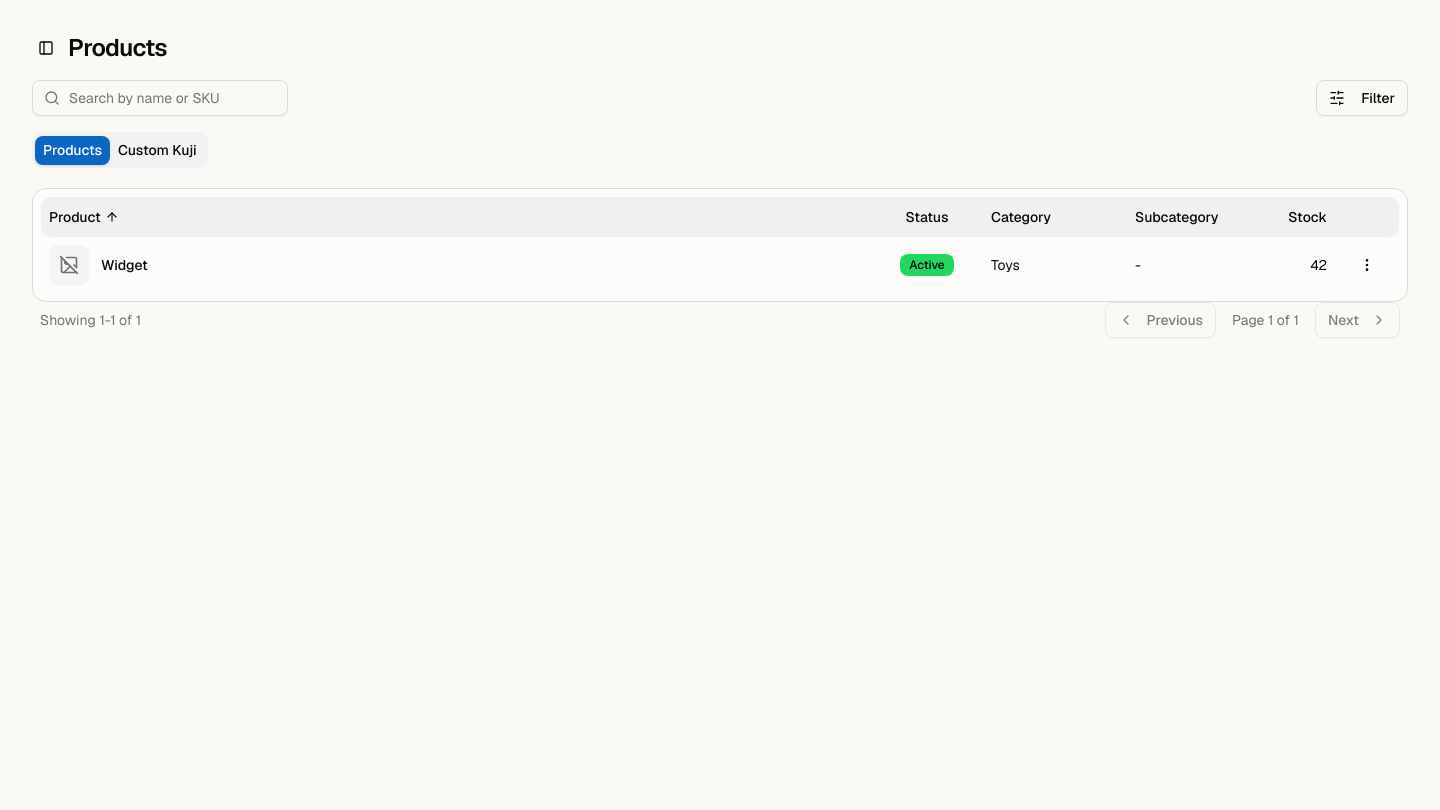
ProductsPage (site-scoped, phase-5d T-5) › opens the detail modal with scoped inventory and role-appropriate actions (EMPLOYEE: no Edit)
Click the text "Widget" at (124, 265), box x1=101 y1=255 x2=148 y2=275
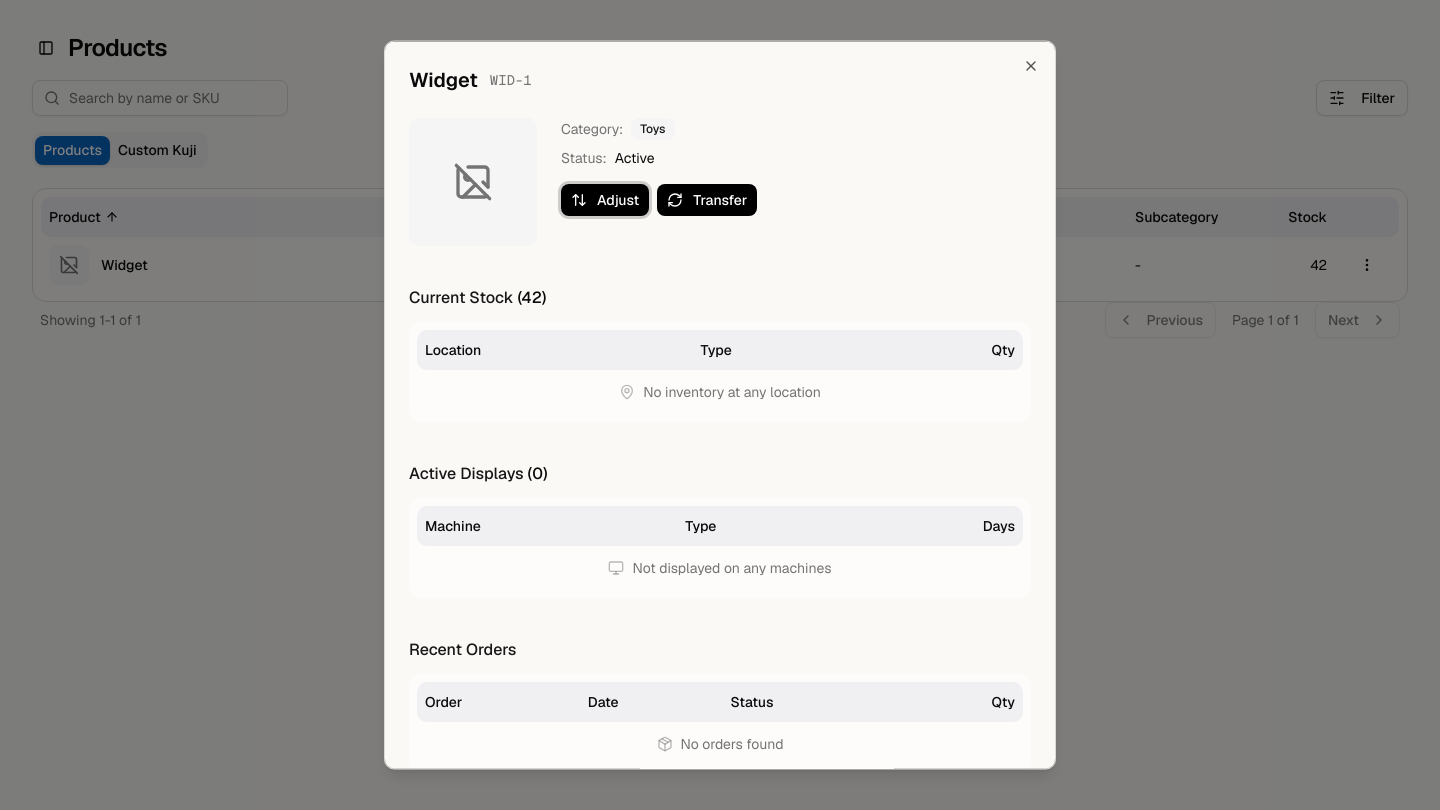
Expected: the heading "Current Stock (42)" is shown, x1=409 y1=286 x2=546 y2=308
Expected: the text "(42)" is shown, x1=518 y1=286 x2=546 y2=308
Expected: the text "Active" is shown, x1=615 y1=148 x2=655 y2=168
